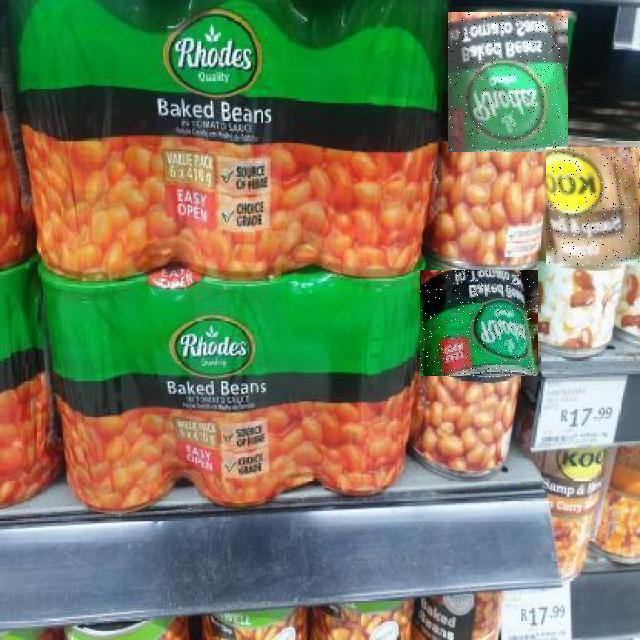Beans: (449, 13, 569, 153), (420, 270, 538, 376), (546, 148, 639, 268)
